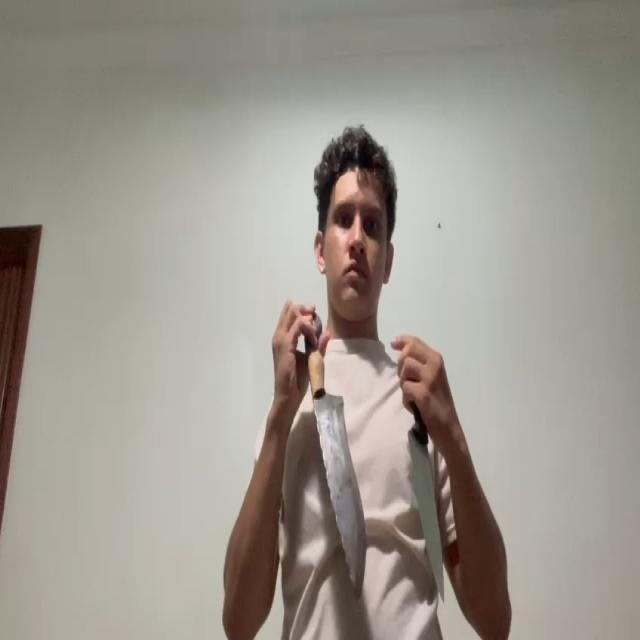knife: (312, 392, 370, 598), (409, 432, 444, 596)
